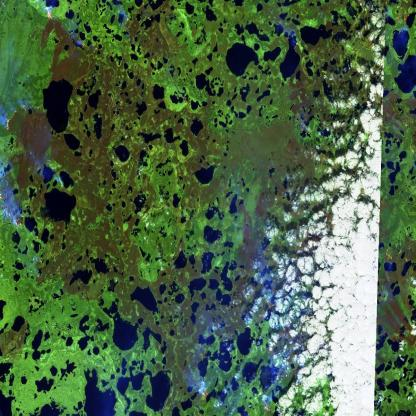fire: (378, 2, 414, 50), (2, 197, 33, 240), (1, 99, 33, 139), (375, 244, 400, 285), (113, 6, 137, 42), (66, 32, 95, 60), (193, 383, 212, 413), (40, 5, 59, 33), (256, 398, 277, 416)
